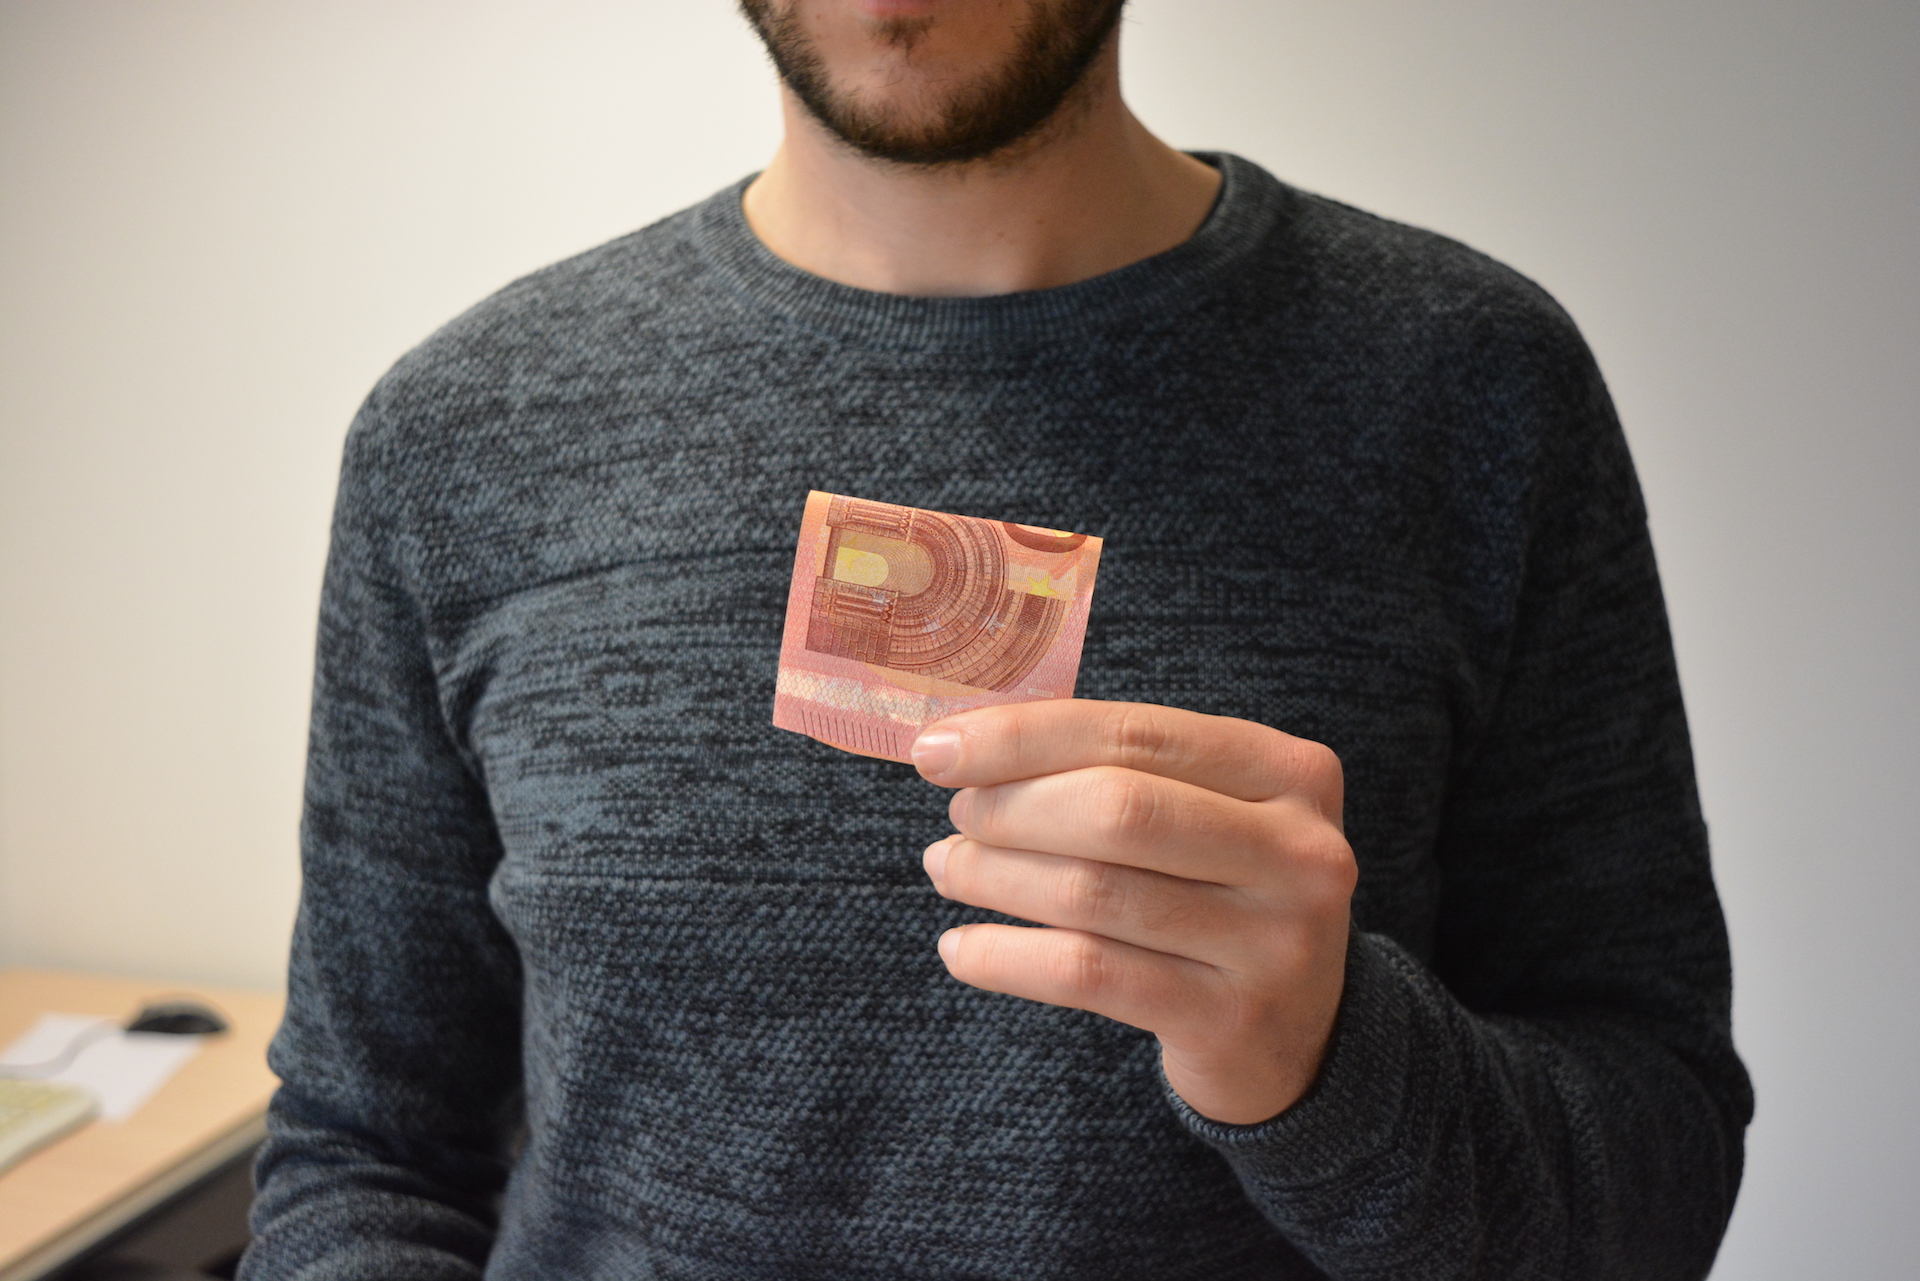billete: (771, 488, 1105, 766)
